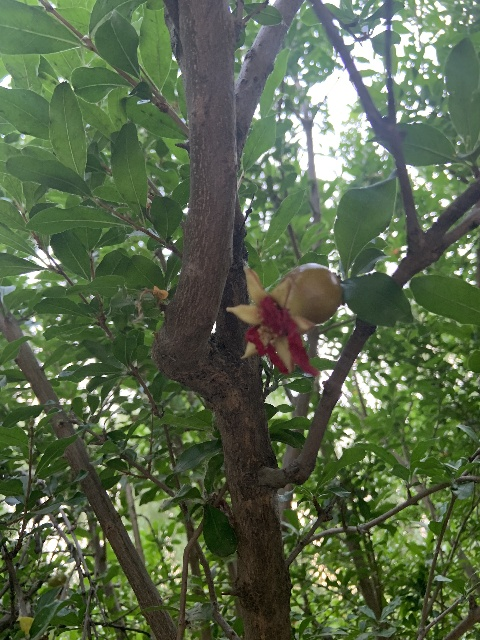early-fruit: (226, 264, 342, 377)
